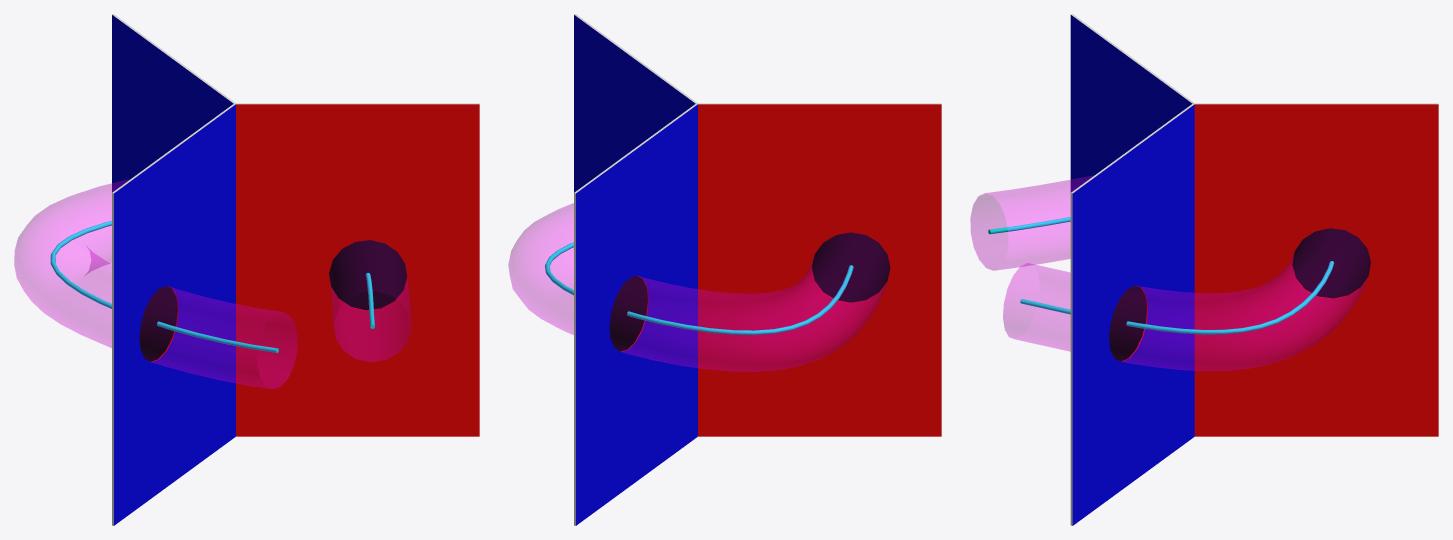
The model's file is disk_intersection.glb.
3 views of the same model, side by side, from view 1: azimuth 30°, elevation 25°; view 2: azimuth 150°, elevation 25°; view 3: azimuth 270°, elevation 25° (orthographic).
Visible parts, largest first — view 1: Circle, NurbsCurve_nbhd, Circle.001, NurbsCurve; view 2: Circle, NurbsCurve_nbhd, Circle.001, NurbsCurve; view 3: Circle, NurbsCurve_nbhd, Circle.001, NurbsCurve.
Part boxes in pixels (x1=…): Circle: x1=112, y1=14, x2=479, y2=525; NurbsCurve_nbhd: x1=14, y1=179, x2=411, y2=388; Circle.001: x1=139, y1=240, x2=407, y2=361; NurbsCurve: x1=50, y1=221, x2=374, y2=352; Circle: x1=574, y1=14, x2=941, y2=525; NurbsCurve_nbhd: x1=508, y1=203, x2=889, y2=371; Circle.001: x1=609, y1=232, x2=890, y2=351; NurbsCurve: x1=545, y1=242, x2=853, y2=334; Circle: x1=1070, y1=14, x2=1438, y2=525; NurbsCurve_nbhd: x1=970, y1=175, x2=1370, y2=370; Circle.001: x1=1109, y1=228, x2=1370, y2=361; NurbsCurve: x1=988, y1=217, x2=1333, y2=334.
Size of the model in its own units: 1.74 by 1.5 by 1.91.
